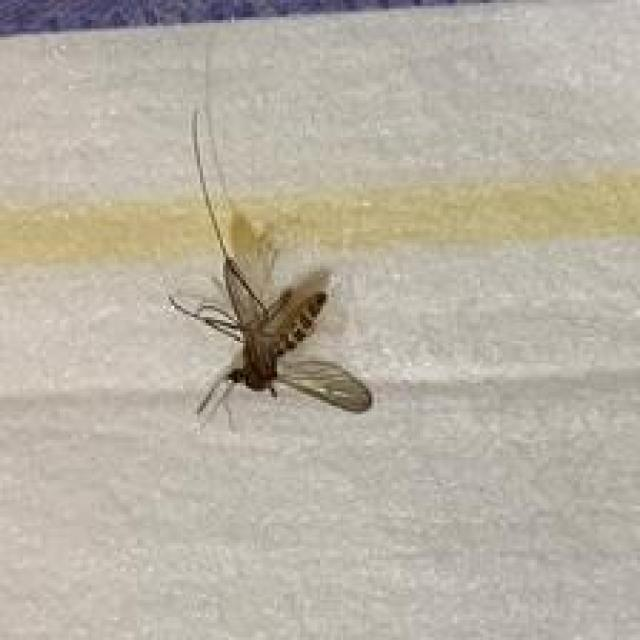Culex: (166, 106, 374, 431)
